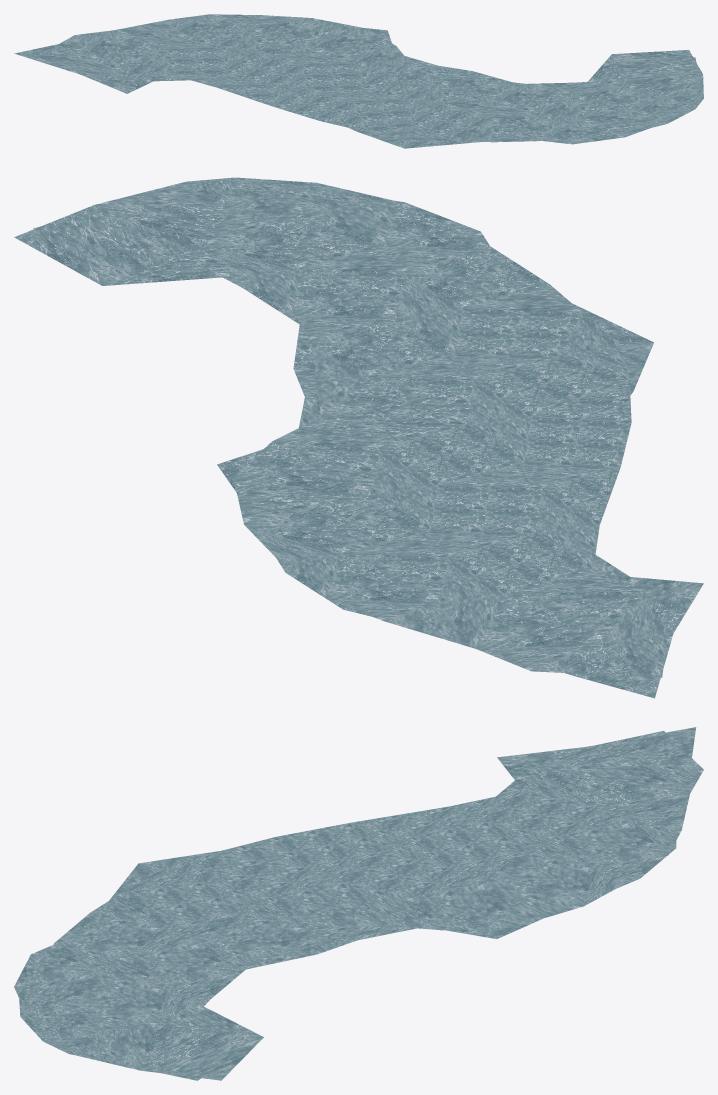
The picture shows the model from 3 angles, top to bottom: view 1: azimuth 30°, elevation 25°; view 2: azimuth 150°, elevation 25°; view 3: azimuth 270°, elevation 25°; orthographic projection. The views are drawn at different scales.
Visible parts, largest first — view 1: mesh00; view 2: mesh00; view 3: mesh00.
Boxes of the visible parts, x1,y1,x2,y2 form: mesh00: (14,14,703,148); mesh00: (14,177,703,698); mesh00: (14,727,703,1080).
Bounding box in the file's own units: 10311 × 20 × 8468.
